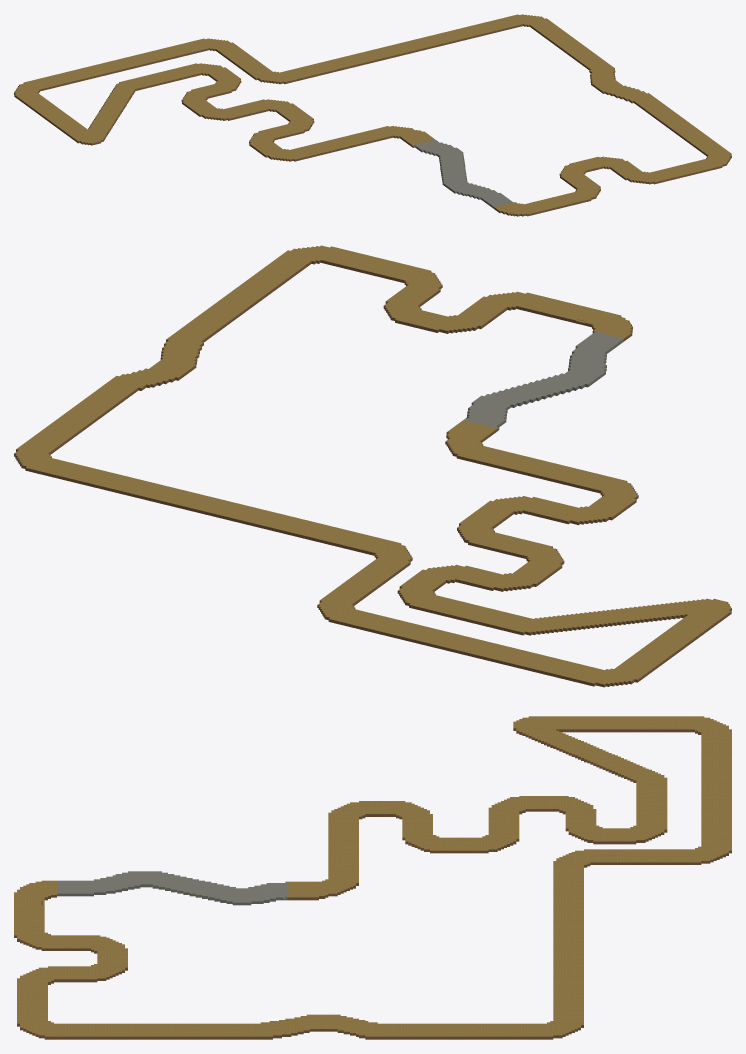
The model's file is PistaFinal.fbx.
3 renders of one model, top to bottom at view 1: azimuth 30°, elevation 25°; view 2: azimuth 150°, elevation 25°; view 3: azimuth 270°, elevation 25°, orthographic. The views are drawn at different scales.
Parts seen in each view (by area): view 1: Pista; view 2: Pista; view 3: Pista.
Part boxes in pixels (bbox=[...]): Pista: bbox=[14, 14, 731, 216]; Pista: bbox=[14, 245, 731, 687]; Pista: bbox=[14, 716, 731, 1039].
Bounding box in the file's own units: 24600 × 100 × 23300.
Materials: 3 (3 with a texture image).
